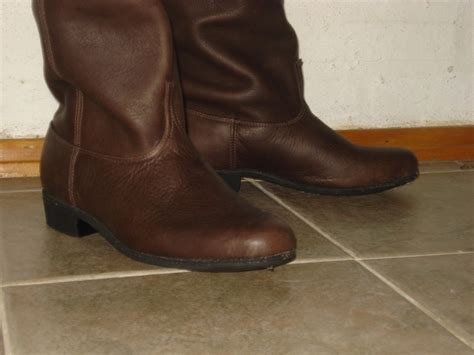cuero: (30, 1, 421, 263)
